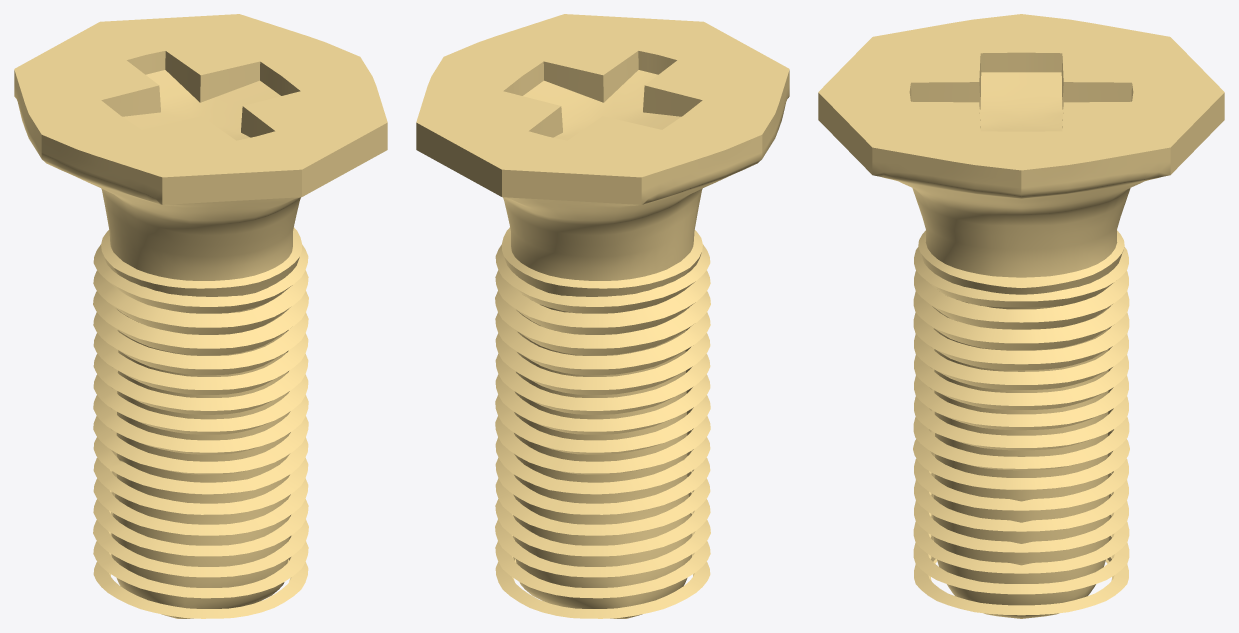
Rendered from nuts.fbx.
3 views of the same model, side by side, from view 1: azimuth 30°, elevation 25°; view 2: azimuth 150°, elevation 25°; view 3: azimuth 270°, elevation 25° (orthographic).
Visible parts, largest first — view 1: Retopo_polySurface43Shape.001; view 2: Retopo_polySurface43Shape.001; view 3: Retopo_polySurface43Shape.001.
Boxes of the visible parts, x1,y1,x2,y2 form: Retopo_polySurface43Shape.001: (14, 14, 387, 618); Retopo_polySurface43Shape.001: (416, 14, 789, 618); Retopo_polySurface43Shape.001: (818, 14, 1224, 618).
Bounding box in the file's own units: 1.45 × 2.17 × 1.59.
